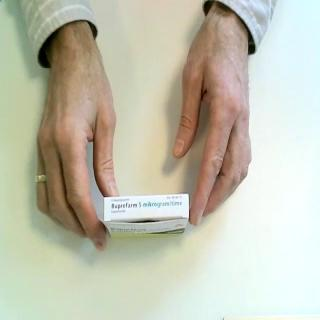buprefarm5ug_hour: (103, 194, 191, 242)
